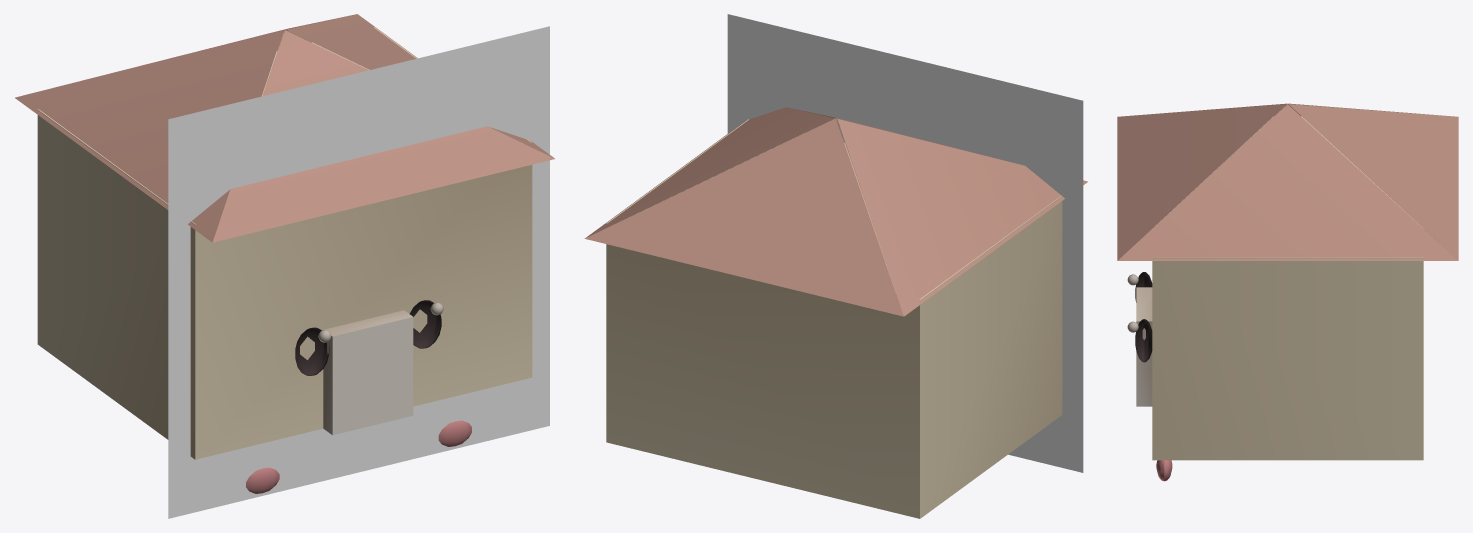
3 views of the same model, side by side, from view 1: azimuth 30°, elevation 25°; view 2: azimuth 150°, elevation 25°; view 3: azimuth 270°, elevation 25° (orthographic). The views are drawn at different scales.
Visible parts, largest first — view 1: pet_p456981d3; view 2: pet_p456981d3; view 3: pet_p456981d3.
Part boxes in pixels (box(x1,y1,x2,y2)): pet_p456981d3: box(15, 14, 554, 518); pet_p456981d3: box(584, 14, 1087, 518); pet_p456981d3: box(1117, 103, 1458, 481).
Bounding box in the file's own units: 0.476 × 0.476 × 0.4277.
